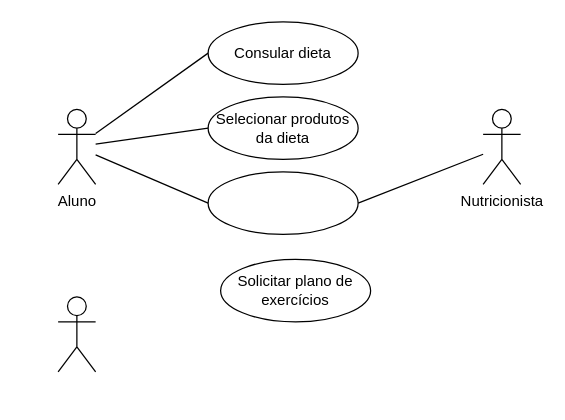
Some shapes in this 565 by 420 pixel diagram are drawn without their labels. Here are the shapes that lost their labels. From the top down, the centre of each, then its label:
At (x=282, y=202): "Solicitar dieta".
At (x=76, y=334): "Personal Trainer".
